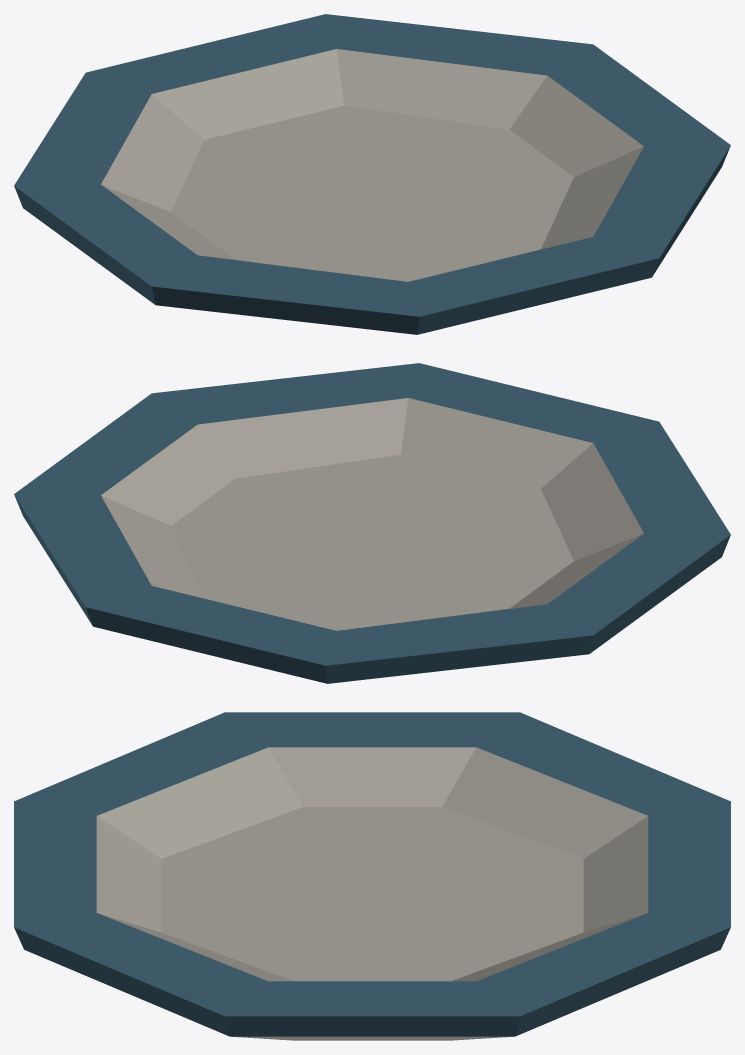
The model's file is kingdom_SM_Item_Dish_03.gltf.
3 renders of one model, top to bottom at view 1: azimuth 30°, elevation 25°; view 2: azimuth 150°, elevation 25°; view 3: azimuth 270°, elevation 25°, orthographic. The views are drawn at different scales.
Visible parts, largest first — view 1: SM_Item_Dish_03; view 2: SM_Item_Dish_03; view 3: SM_Item_Dish_03.
Boxes of the visible parts, x1,y1,x2,y2 form: SM_Item_Dish_03: [14, 14, 730, 334]; SM_Item_Dish_03: [14, 363, 730, 683]; SM_Item_Dish_03: [14, 712, 730, 1040].
Bounding box in the file's own units: 0.3224 × 0.0331 × 0.3216.
Materials: 1 (1 with a texture image).
